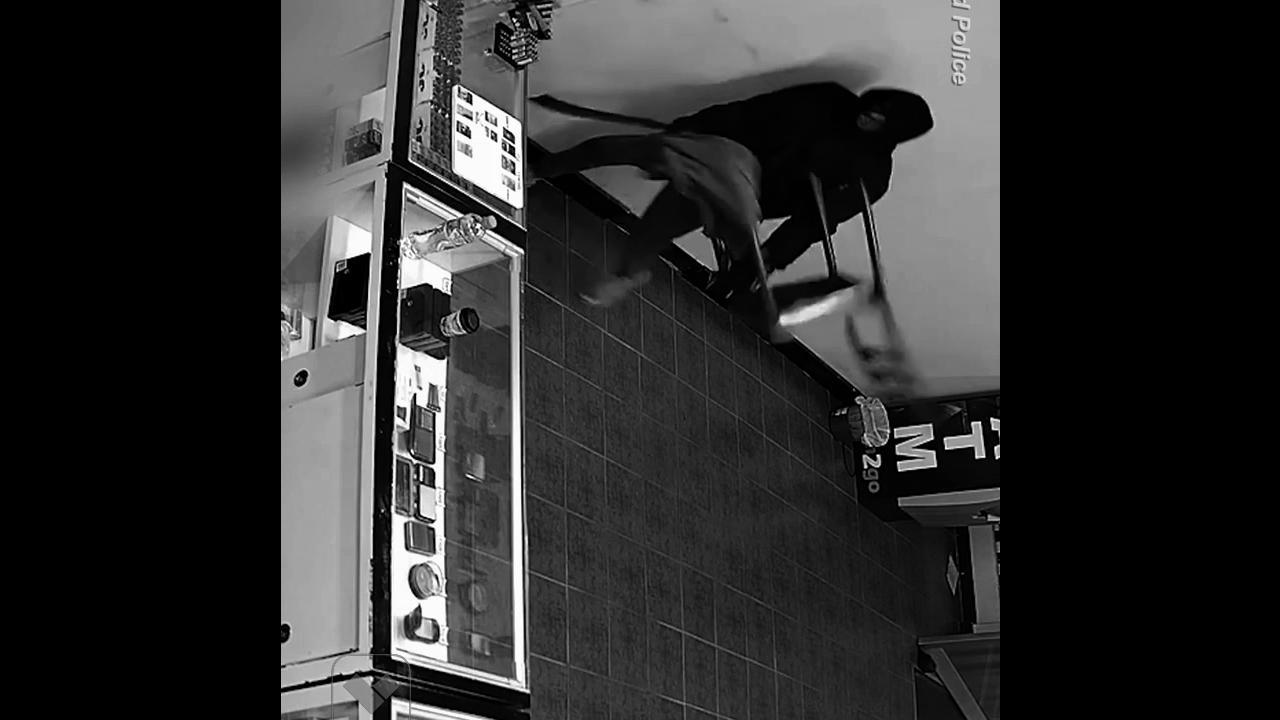melee: (525, 83, 680, 135)
